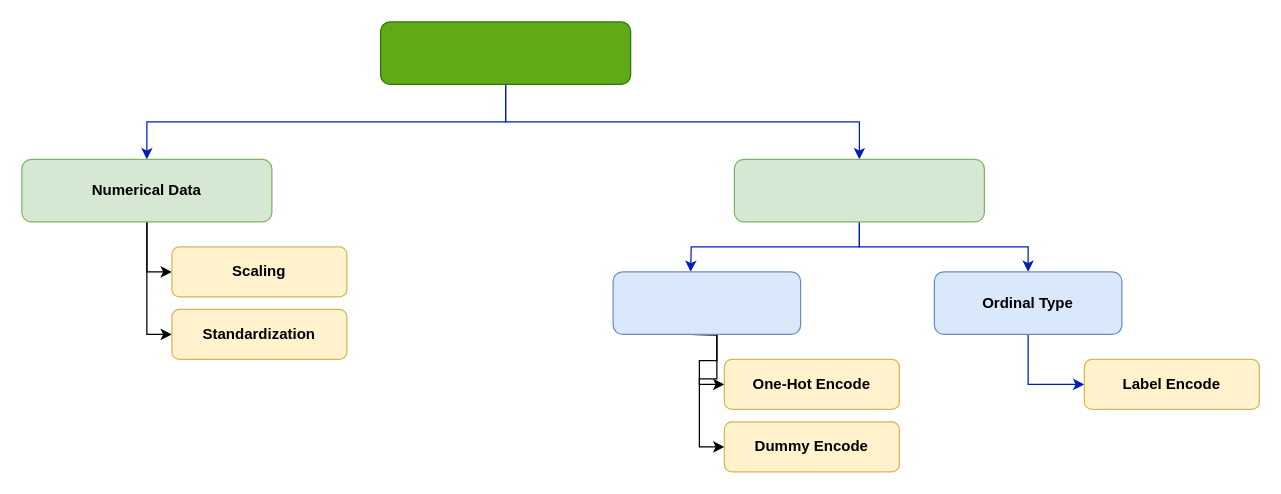
Some shapes in this 1281 by 494 pixel diagram are drawn without their labels. The shapes that lost their labels are listed below. From the top down, each one's centre as x and y in pixels, then its label:
At point 505,52: "Data Preprocessing (transforms)".
At point 858,190: "Categorical Data".
At point 706,302: "Norminal Type".
